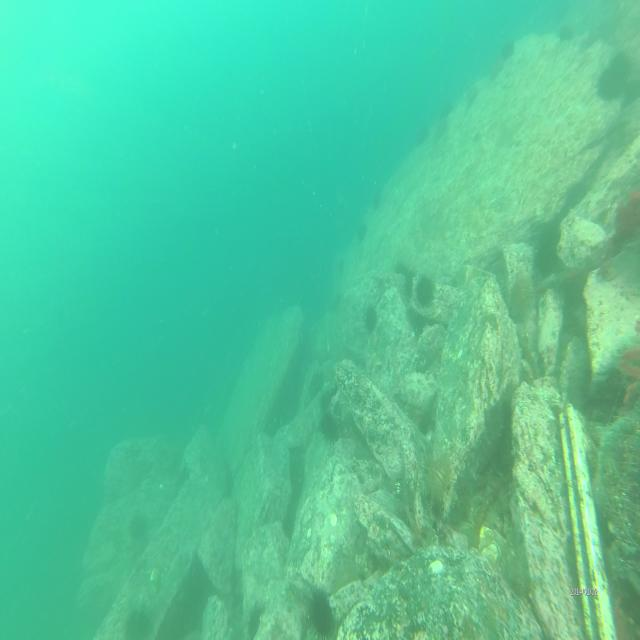echinus: (420, 450, 455, 505), (306, 586, 337, 640), (505, 270, 534, 320), (125, 508, 151, 550), (596, 63, 622, 104), (319, 406, 341, 446), (126, 604, 150, 640), (413, 272, 437, 306), (610, 48, 632, 82), (307, 367, 327, 404), (500, 32, 517, 62), (364, 302, 379, 333), (412, 116, 428, 144), (559, 16, 574, 44), (440, 94, 454, 124), (466, 80, 479, 109), (491, 54, 504, 82), (369, 187, 383, 213), (356, 217, 370, 243)
